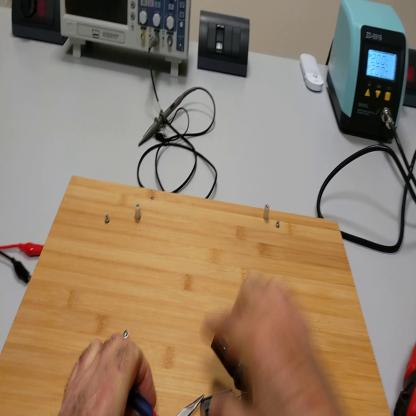electric screwdriver: (395, 343, 415, 415)
hand: (204, 274, 325, 415), (59, 336, 156, 416)
high voltage board: (202, 329, 245, 413)
oscilloscope: (61, 2, 193, 76)
oscilloscope probe tip: (139, 88, 190, 149)
pliers: (130, 389, 202, 414)
socket: (10, 2, 62, 47)
welder station: (327, 3, 410, 144)
working area: (3, 174, 393, 416)
